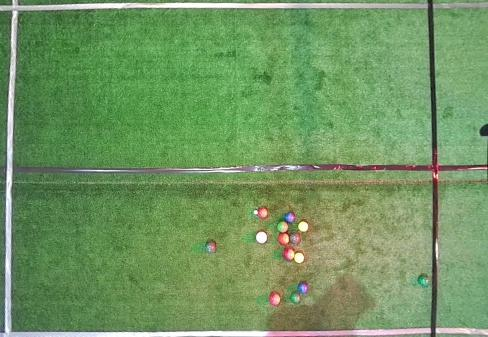blue: (298, 283, 309, 294), (285, 212, 296, 222)
green: (418, 275, 429, 287), (205, 241, 216, 253), (290, 293, 301, 304), (290, 233, 300, 244), (278, 221, 288, 232)
red: (278, 233, 290, 245), (256, 231, 268, 243), (269, 293, 280, 305), (283, 248, 294, 260), (258, 208, 268, 218)
vline: (427, 0, 487, 336), (0, 0, 21, 336)
white: (254, 210, 258, 214)
yellow: (298, 221, 308, 232), (294, 253, 304, 263)
